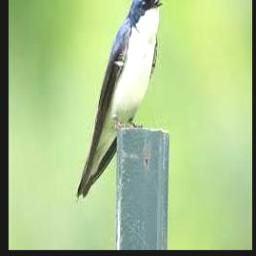Swallow: (76, 0, 165, 199)
